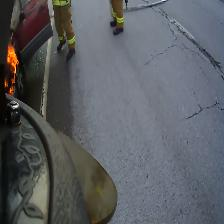fire: (0, 21, 27, 100)
